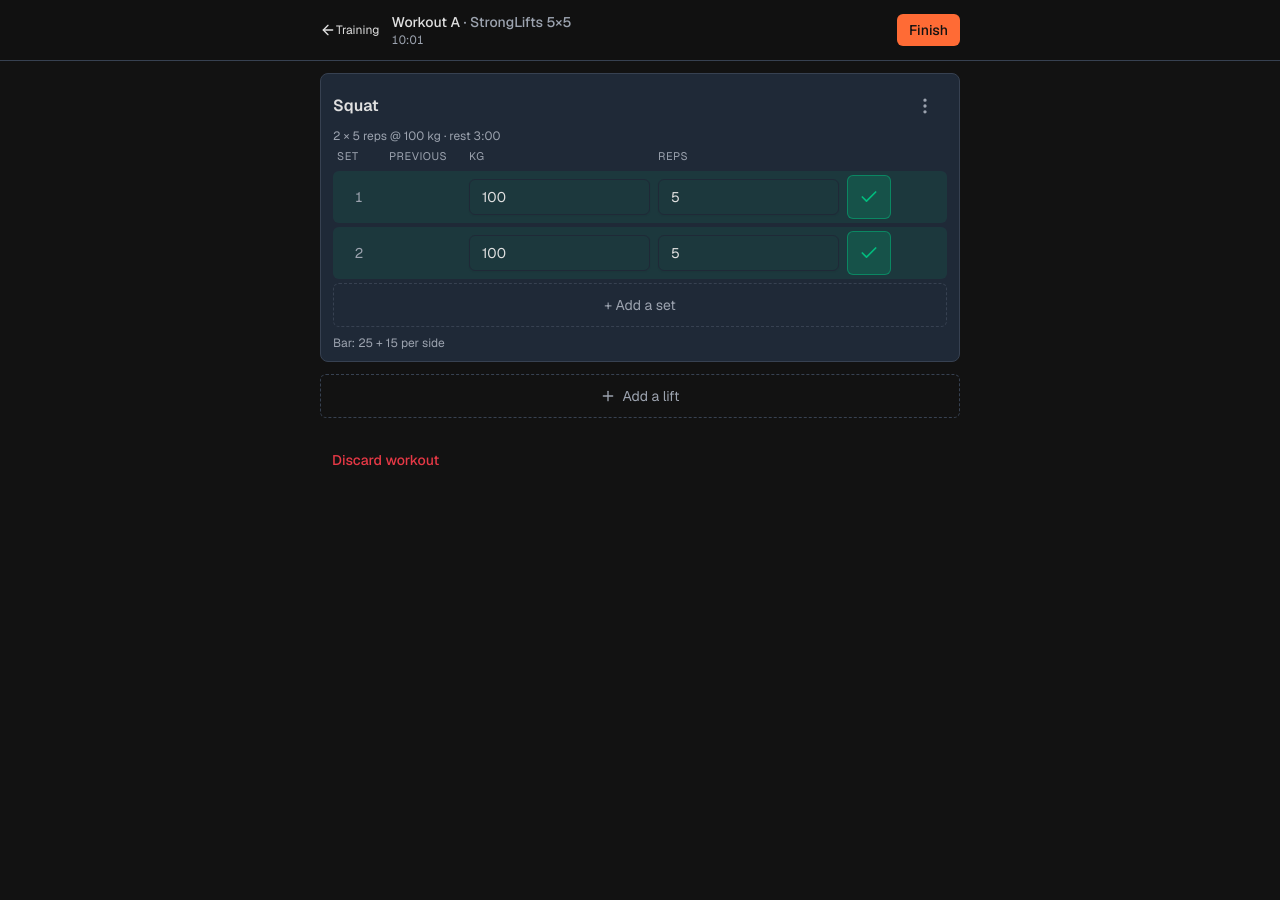
it: throwing a workout away › asks in the app's own dialog, and says how many sets go
Click the button with test id "discard-workout".
click(386, 460)  # box [320, 438, 451, 482]
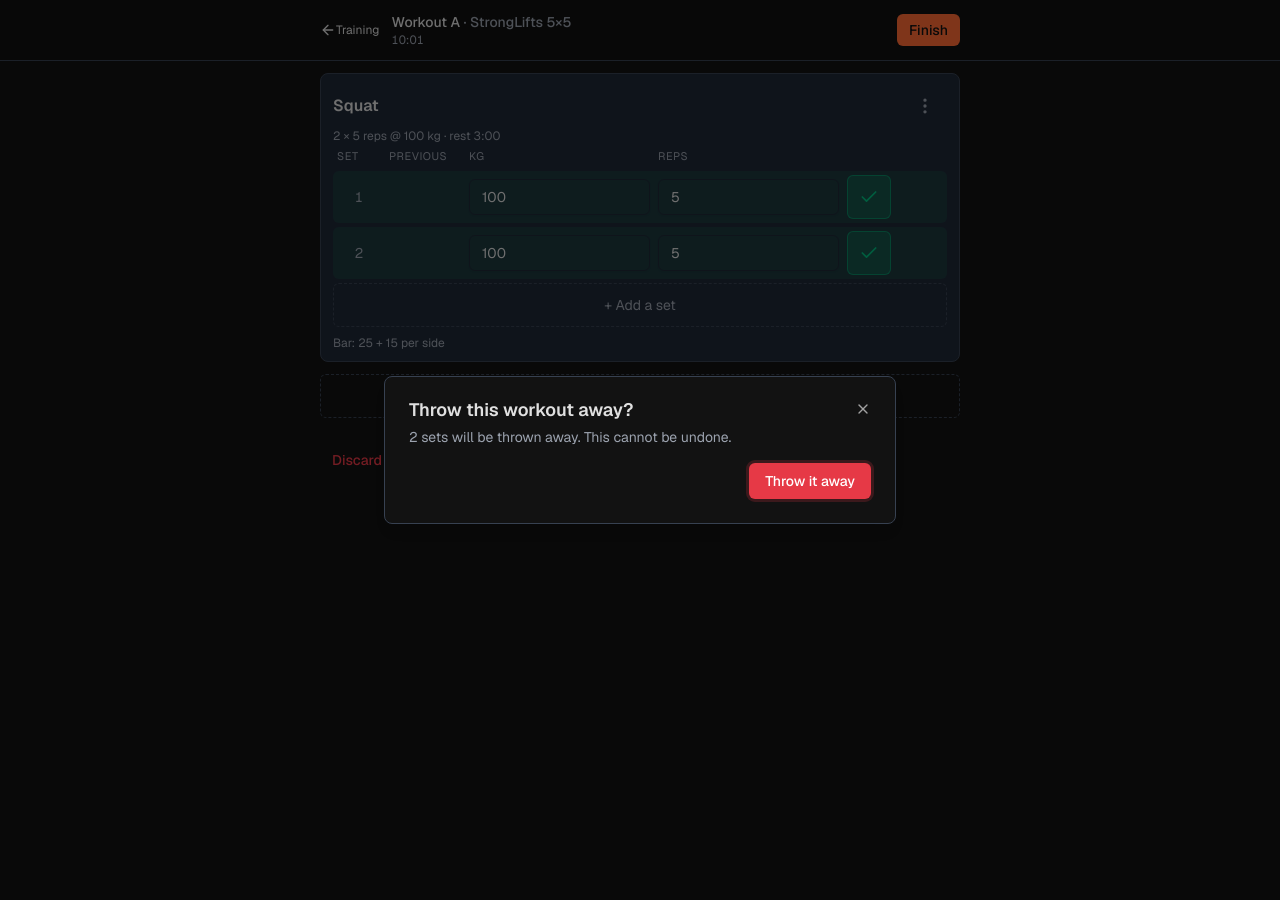
Result: the text "2 sets will be thrown away. This cannot be undone." is shown at [409, 428, 731, 446]
